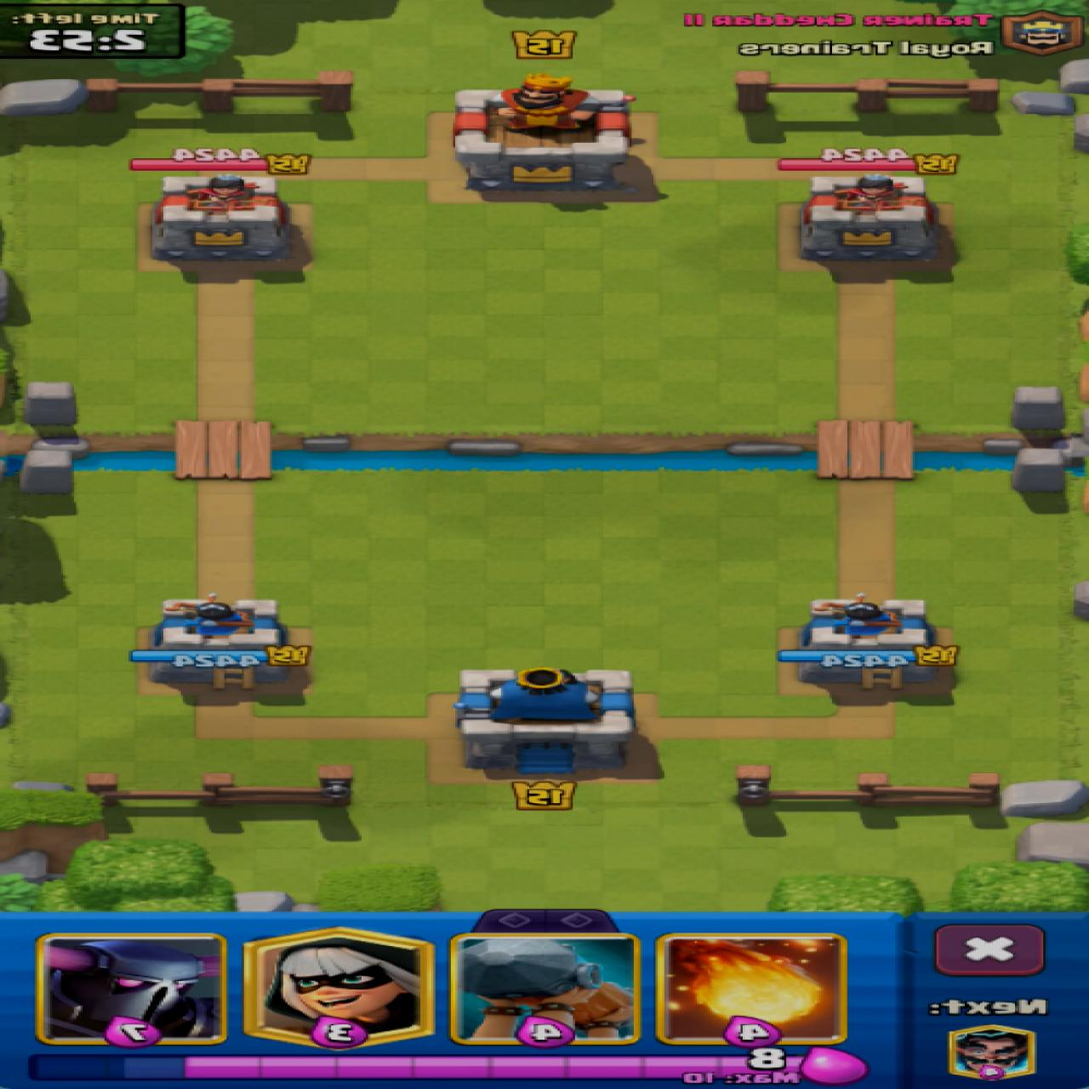Enemy-KingTower: (455, 75, 629, 194)
Enemy-PrincessTower: (802, 174, 939, 261), (152, 175, 290, 261)
